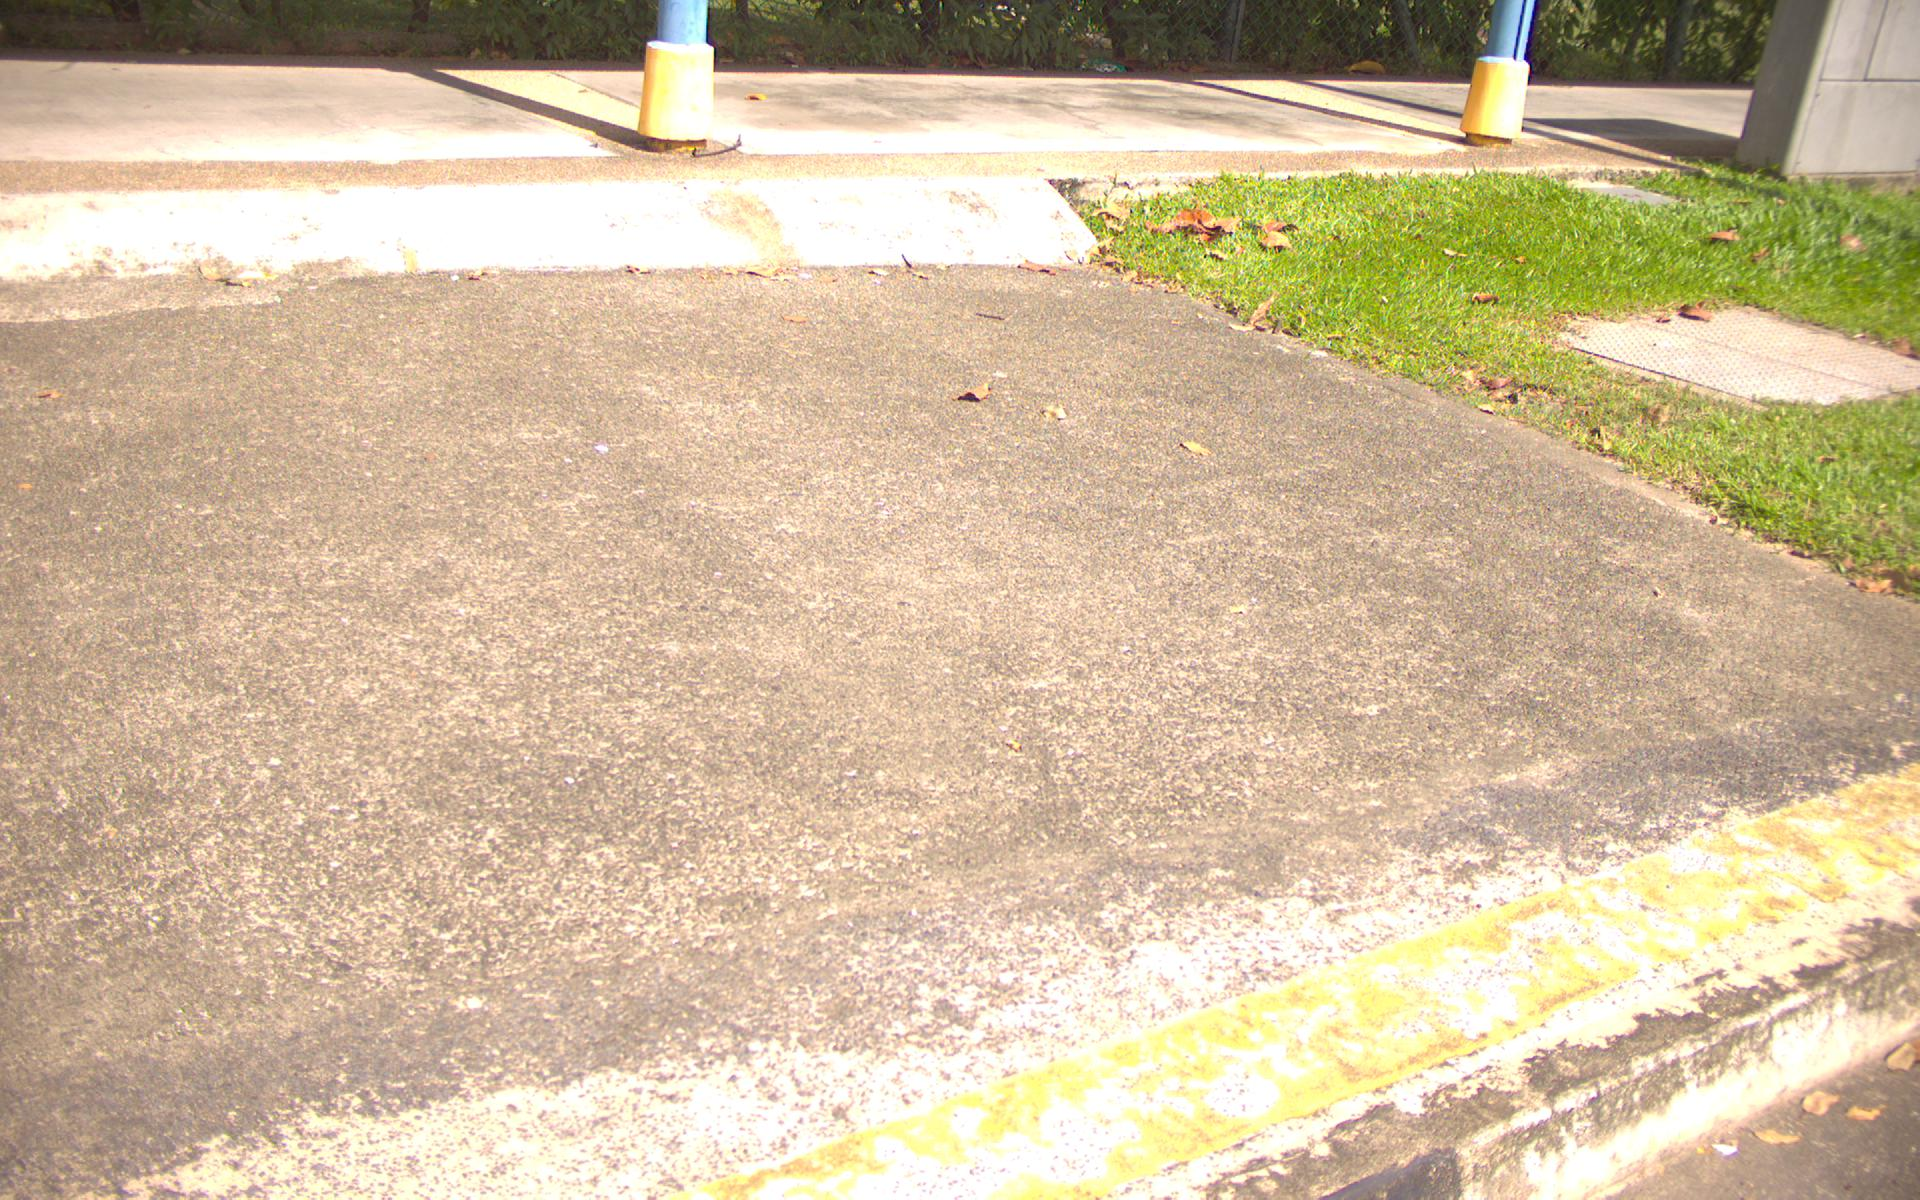pathway_low: (15, 292, 1290, 1200)
road_turf_low: (1515, 173, 1920, 451)
